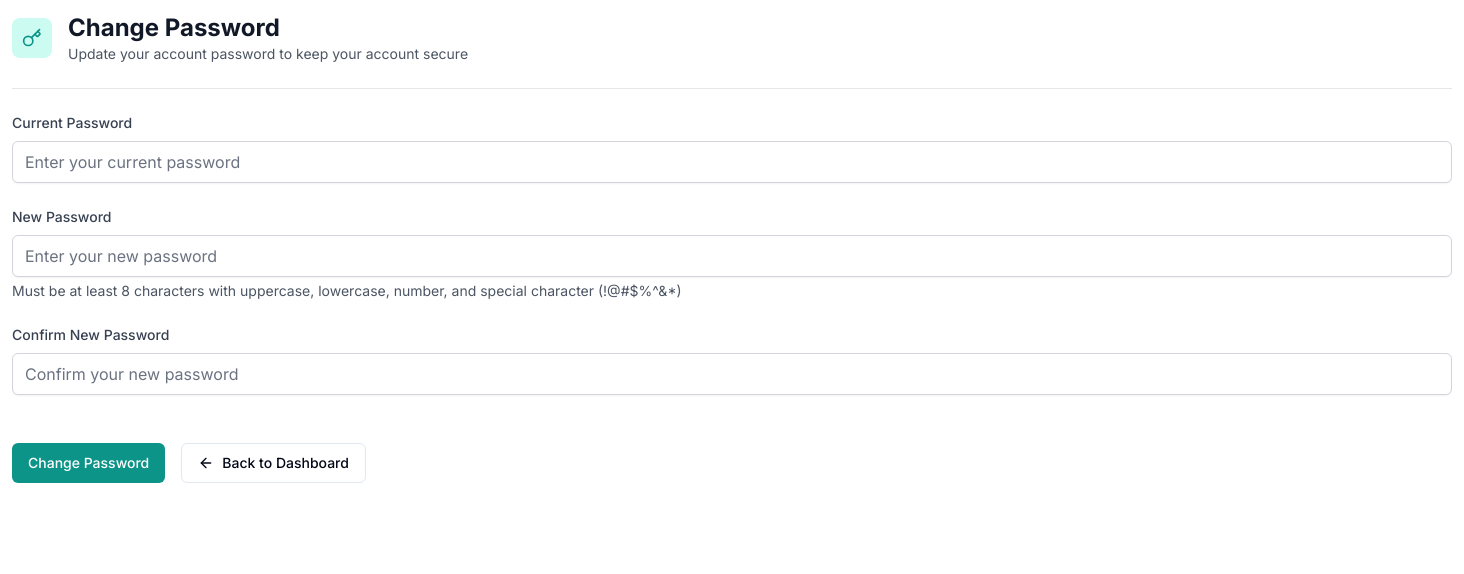
Test case: ChangePasswordForm › Form Validation › should show error when new password is same as current
Type "Password123!" into the password field labelled "Current Password" at (732, 162), box [12,141,1452,183]
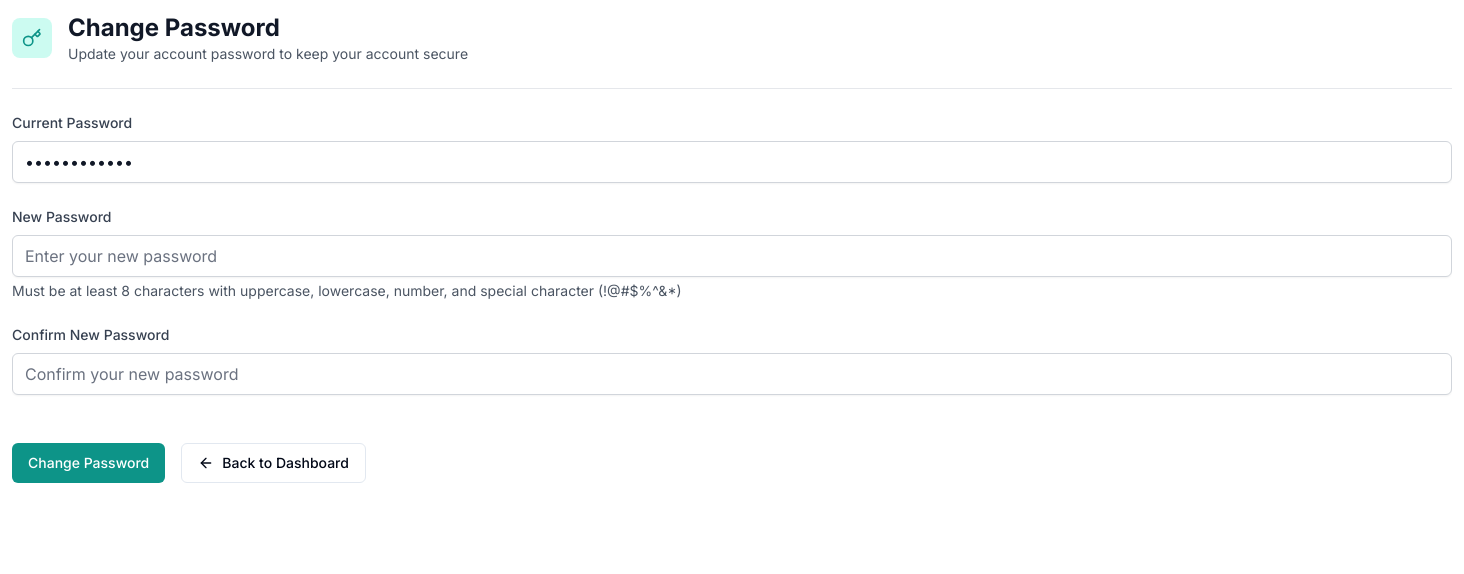
Type "Password123!" into the password field labelled "New Password" at (732, 256), box [12,235,1452,277]
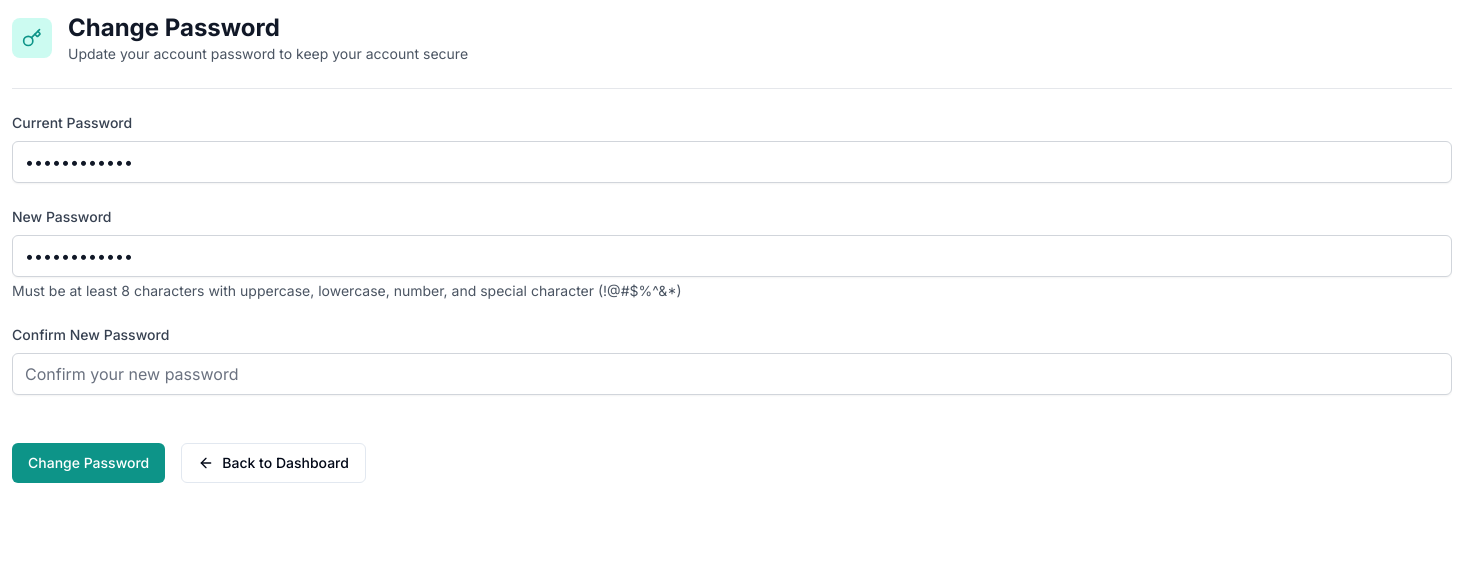
Type "Password123!" into the password field labelled "Confirm New Password" at (732, 374), box [12,353,1452,395]
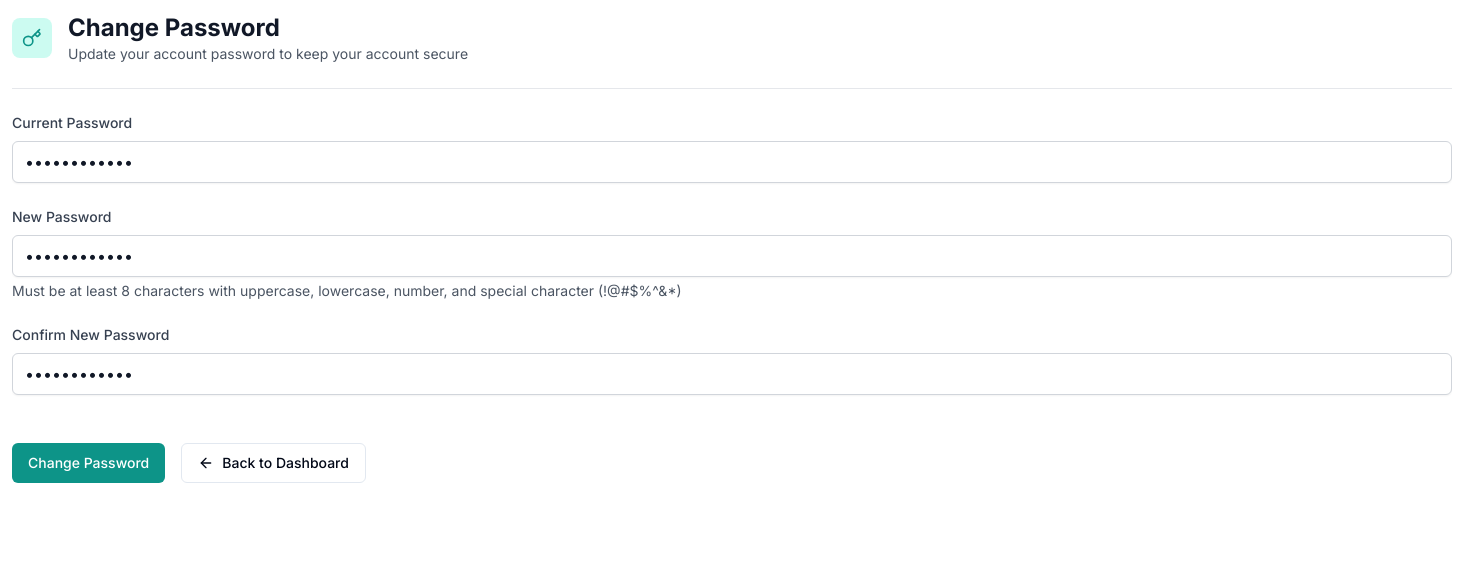
Click the button "Change Password" at (89, 463), box [12,443,165,483]
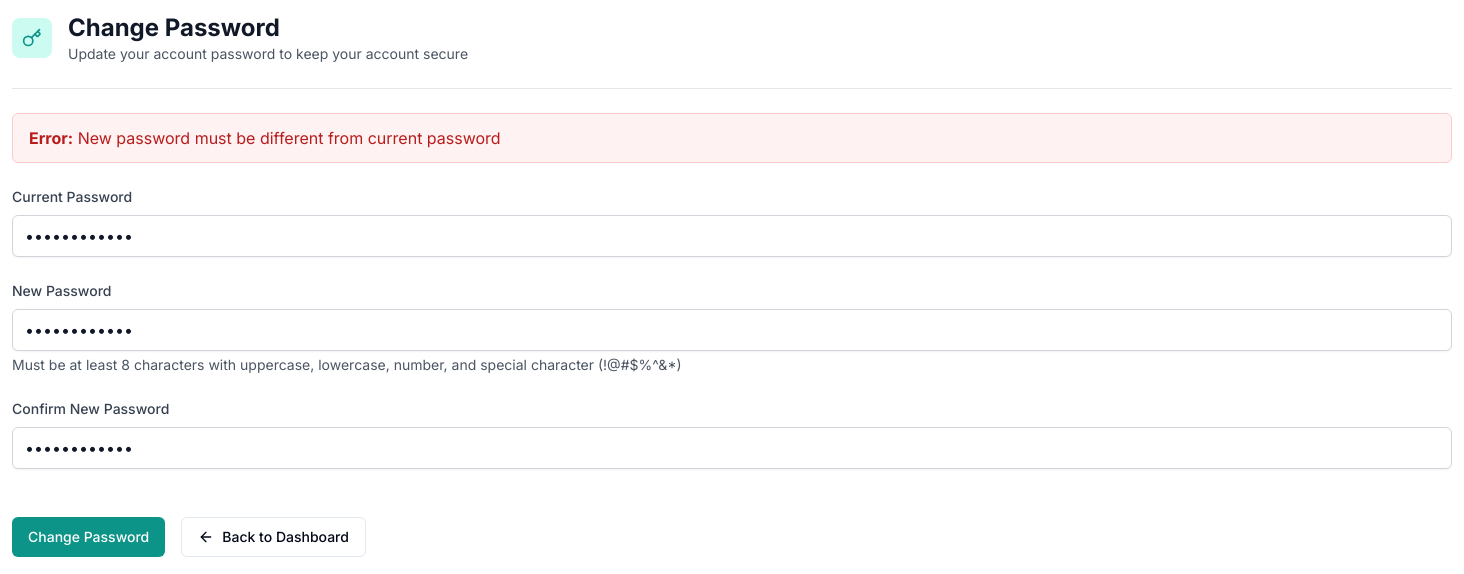
Expected: the text "New password must be different from current password" is shown, [78,128,501,148]
